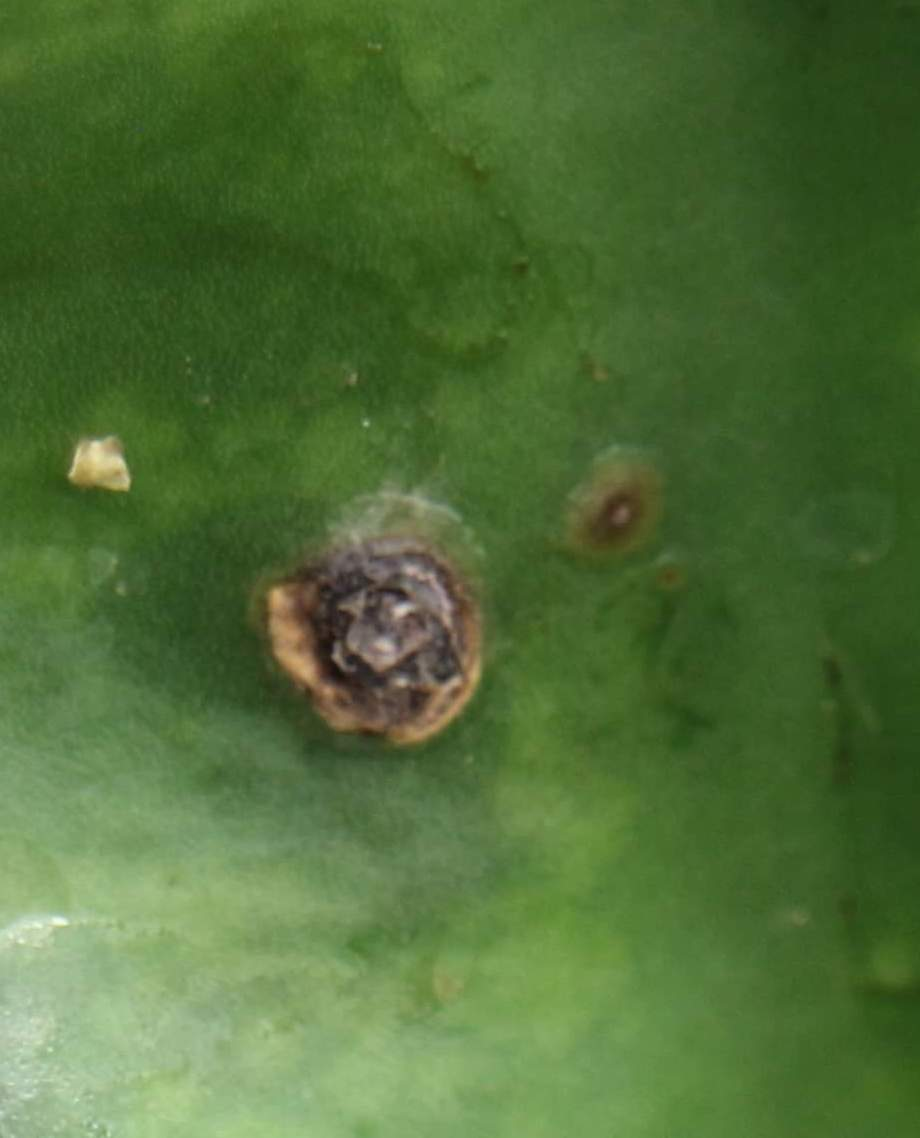stemcanker: (245, 492, 497, 758), (563, 452, 673, 565)
